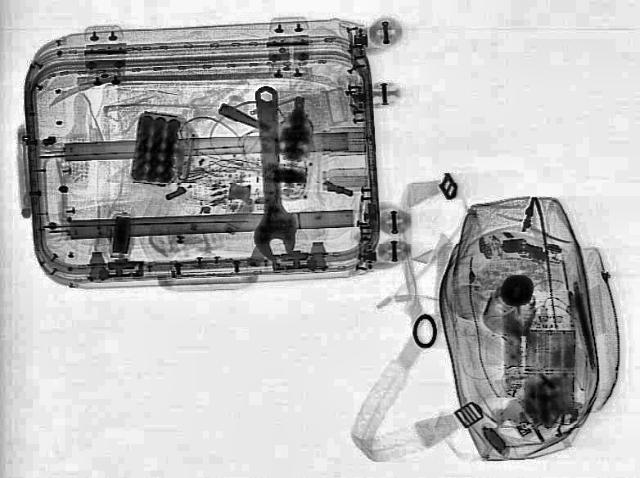Wrench: (245, 84, 297, 262)
